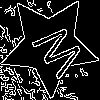W: (24, 20, 87, 86)
